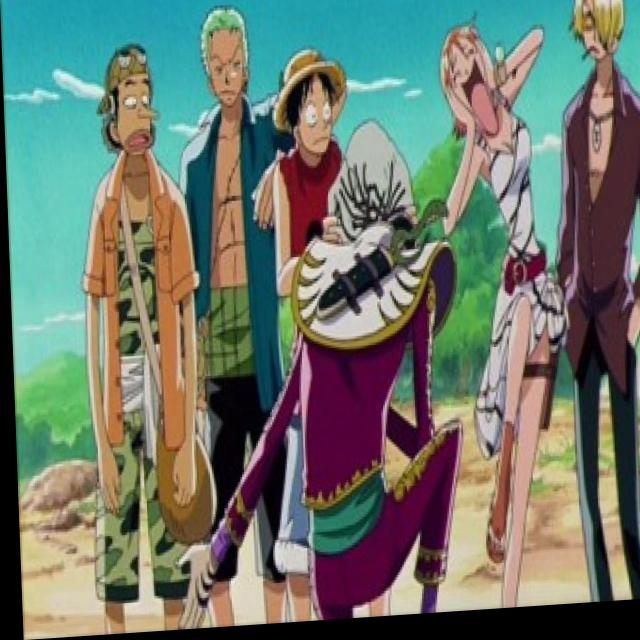Luffy: (268, 40, 356, 171)
Nami: (427, 15, 549, 164)
Sangdi: (560, 0, 631, 81)
Usopp: (82, 29, 173, 179)
Zoro: (190, 0, 259, 123)
